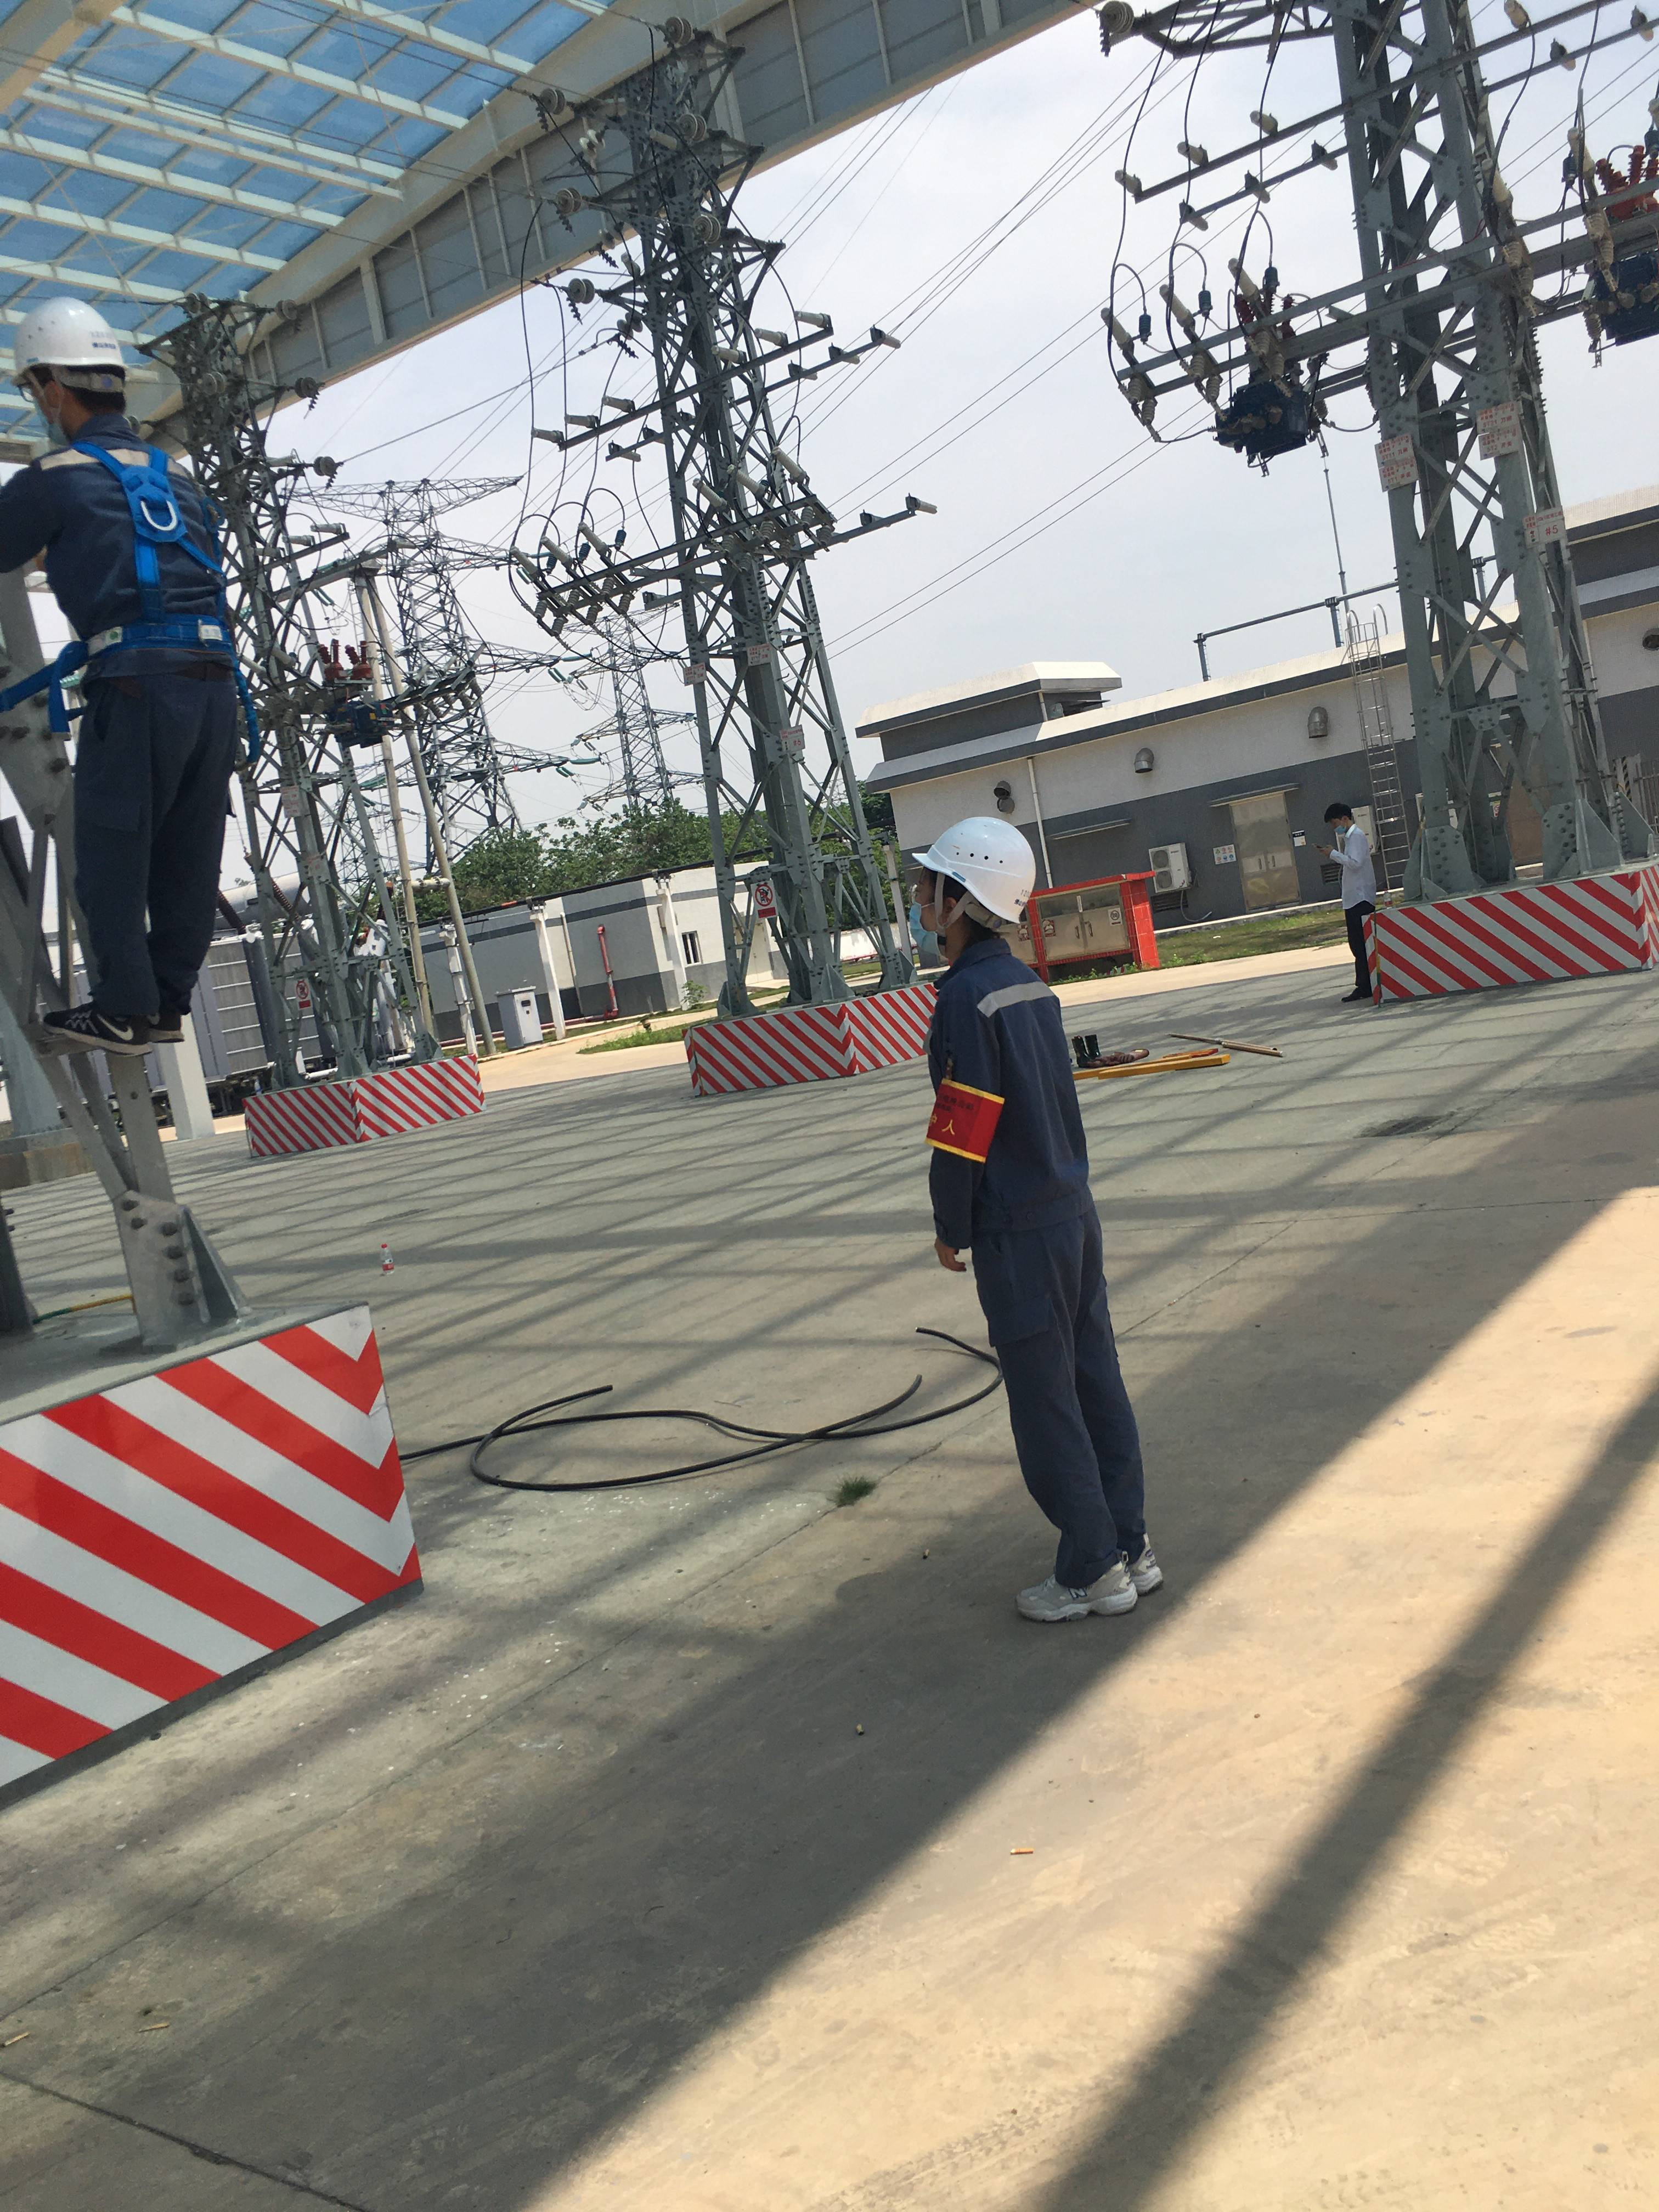downsuit: (63, 683, 247, 1007), (974, 1263, 1155, 1569)
upcloth: (1328, 840, 1380, 906)
upsuit: (920, 941, 1105, 1240), (5, 435, 237, 658)
